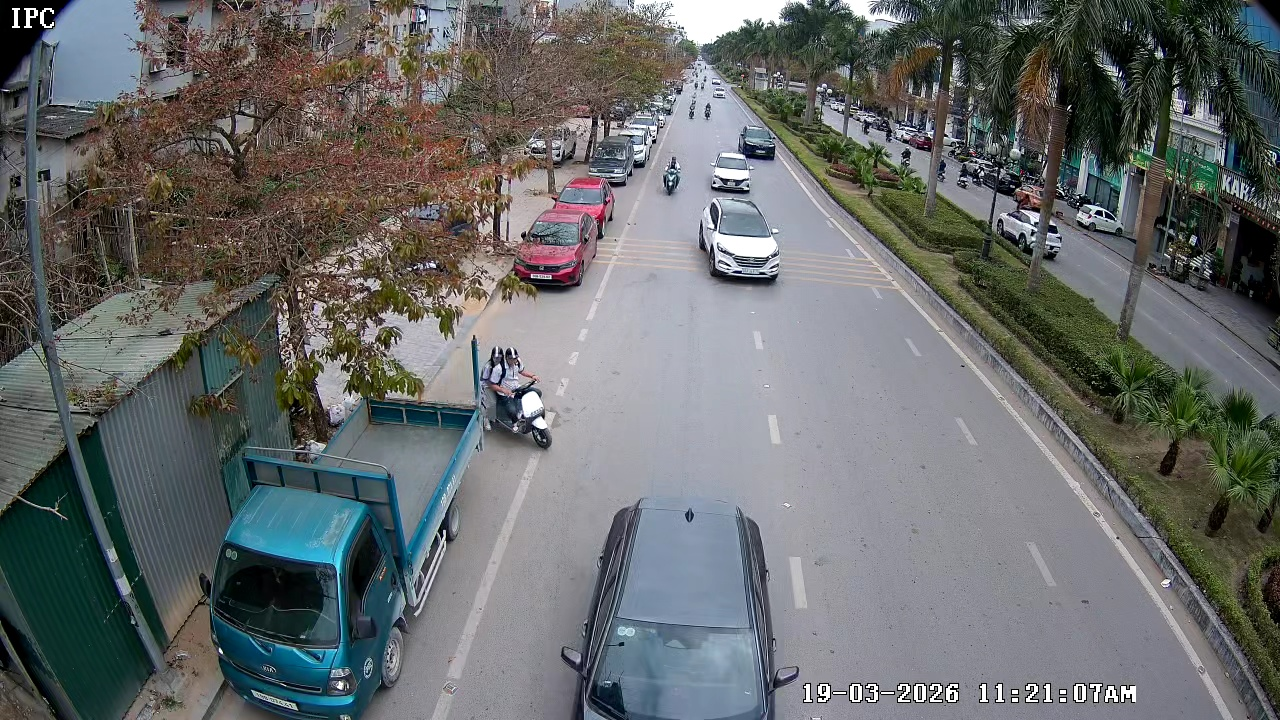car: (553, 490, 810, 719), (698, 195, 781, 284), (513, 210, 590, 291), (552, 175, 616, 238), (708, 152, 753, 192), (737, 126, 779, 160)
motorbike: (479, 345, 555, 450), (661, 153, 685, 196), (701, 102, 715, 120)
